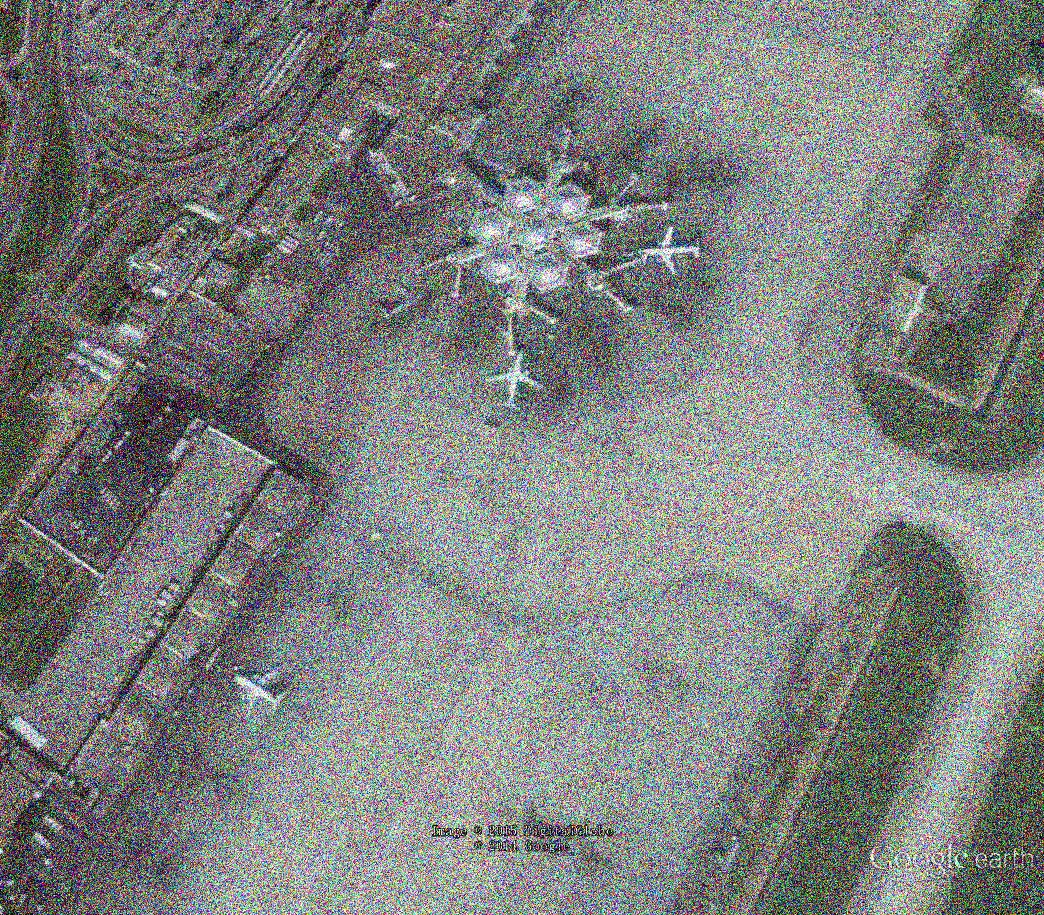aircraft: (481, 343, 548, 414), (636, 221, 707, 280), (231, 663, 292, 726), (375, 278, 440, 331)
